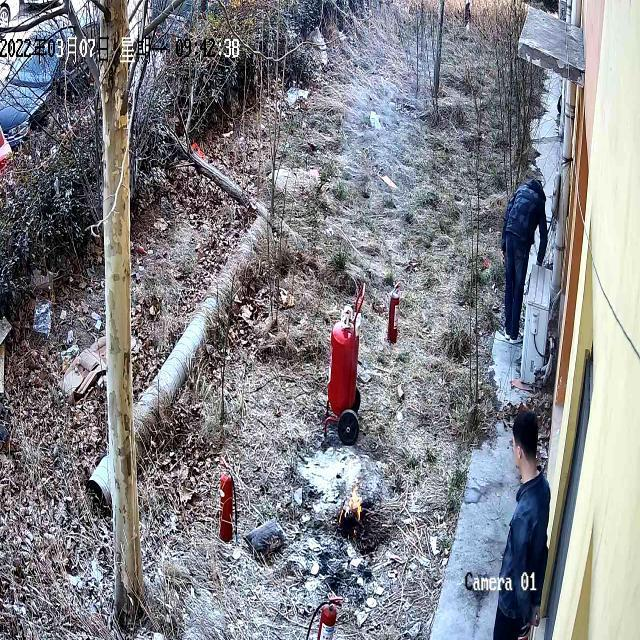Fire: (338, 476, 371, 528)
Smoke: (330, 1, 420, 228)
